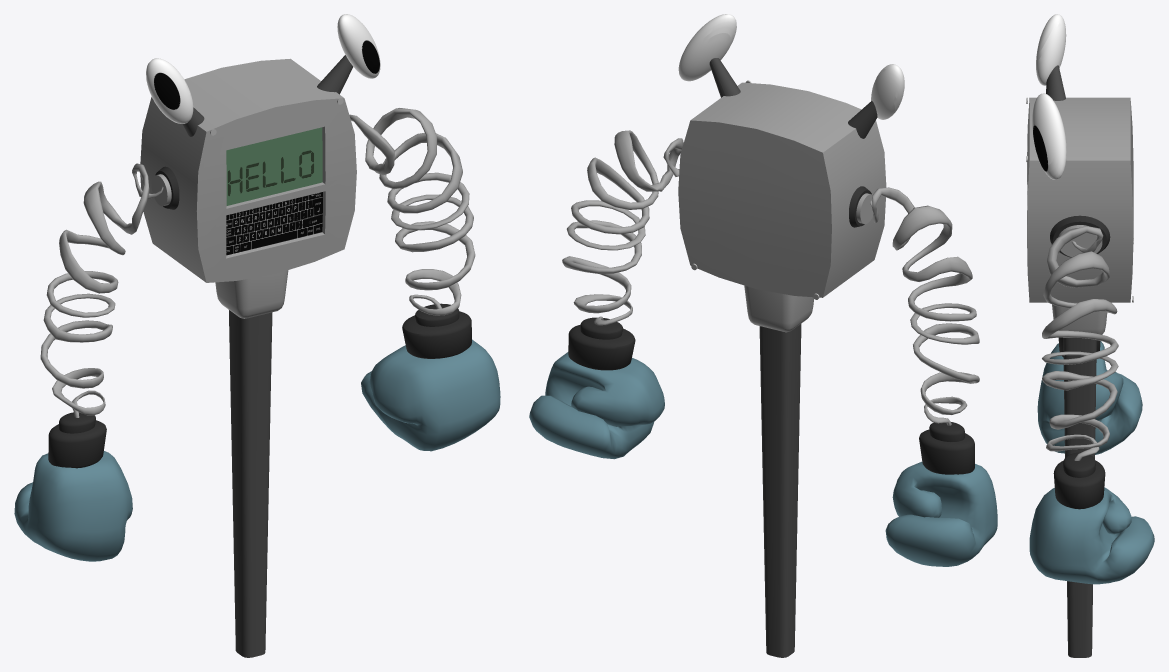
The model's file is crowdbot_1.fbx.
The picture shows the model from 3 angles, left to right: view 1: azimuth 30°, elevation 25°; view 2: azimuth 150°, elevation 25°; view 3: azimuth 270°, elevation 25°; orthographic projection. The views are drawn at different scales.
Visible parts, largest first — view 1: Head, Stem.001, Glove, Glove.005, Arm L.001, Arm L.003, Head.001, Head.002, Stem, Glove.001, Eye R.001, Glove.003 (+2 smaller); view 2: Head, Stem.001, Glove, Glove.005, Arm L.001, Arm L.003, Eye L.001, Stem, Glove.001, Glove.003, Eye R.001, Glove.002 (+1 smaller); view 3: Head, Glove, Arm L.001, Stem.001, Glove.005, Eye L.001, Glove.001, Eye R.001, Stem, Arm L.004, Glove.002, Arm L.002 (+1 smaller).
Boxes of the visible parts, x1,y1,x2,y2 form: Head: (140,58,356,282); Stem.001: (229,310,272,657); Glove: (361,339,500,451); Glove.005: (14,451,132,561); Arm L.001: (349,108,475,315); Arm L.003: (40,163,163,417); Head.001: (226,127,322,205); Head.002: (226,192,322,255); Stem: (215,270,288,318); Glove.001: (402,311,471,358); Eye R.001: (146,58,193,123); Glove.003: (48,420,106,468); Head: (678,82,886,297); Stem.001: (759,324,801,657); Glove: (529,352,664,459); Glove.005: (885,461,997,566); Arm L.001: (562,130,683,325); Arm L.003: (870,187,979,425); Eye L.001: (678,14,736,81); Stem: (744,285,813,332); Glove.001: (568,324,635,370); Glove.003: (919,429,974,474); Eye R.001: (871,64,904,119); Glove.002: (580,317,622,339); Head: (1027,97,1133,302); Glove: (1029,487,1154,584); Arm L.001: (1042,226,1118,460); Stem.001: (1063,338,1096,657); Glove.005: (1037,341,1142,454); Eye L.001: (1032,93,1066,179); Glove.001: (1053,460,1105,509); Eye R.001: (1036,14,1066,85); Stem: (1052,302,1107,337); Arm L.004: (1050,215,1110,257); Glove.002: (1063,452,1095,477); Arm L.002: (1058,225,1102,257).
Bounding box in the file's own units: 347 × 459 × 90.14.
